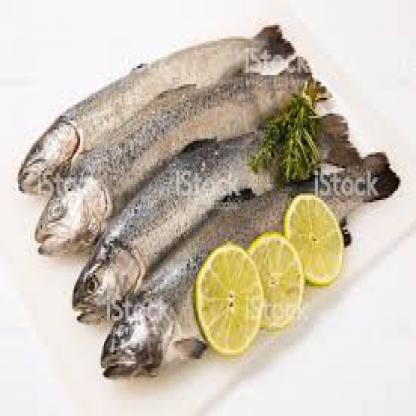fish: (96, 149, 398, 380), (68, 114, 359, 324), (32, 52, 330, 256), (16, 19, 294, 198)
